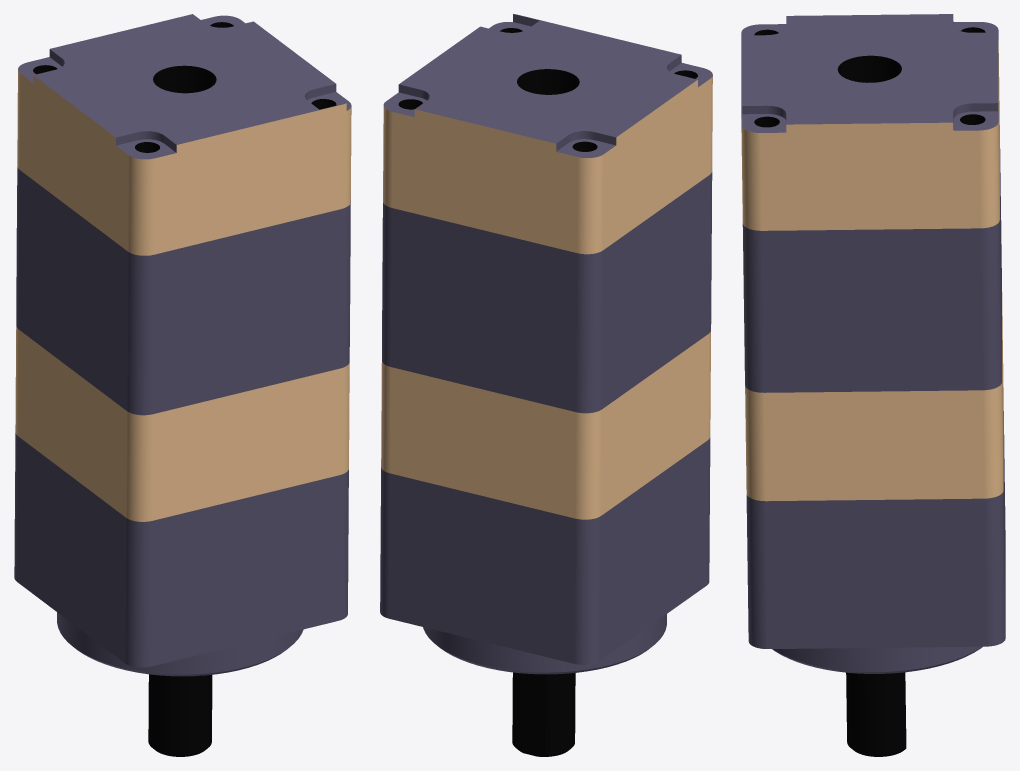
File: Main_PK513PA-H50S_v1.dae
3 views of the same model, side by side, from view 1: azimuth 30°, elevation 25°; view 2: azimuth 150°, elevation 25°; view 3: azimuth 270°, elevation 25° (orthographic). The views are drawn at different scales.
Visible parts, largest first — view 1: Main_PK513PA-H50S_v1; view 2: Main_PK513PA-H50S_v1; view 3: Main_PK513PA-H50S_v1.
Boxes of the visible parts, left/top/right/bottom form: Main_PK513PA-H50S_v1: left=14, top=14, right=351, bottom=756; Main_PK513PA-H50S_v1: left=380, top=14, right=712, bottom=756; Main_PK513PA-H50S_v1: left=741, top=14, right=1005, bottom=756.
Size of the model in its own units: 0.02 by 0.0206 by 0.0581.
